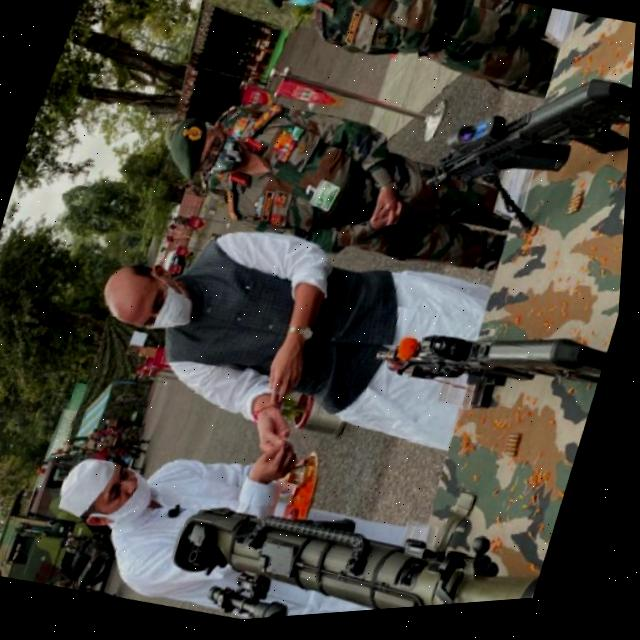rocket: (158, 412, 573, 629)
